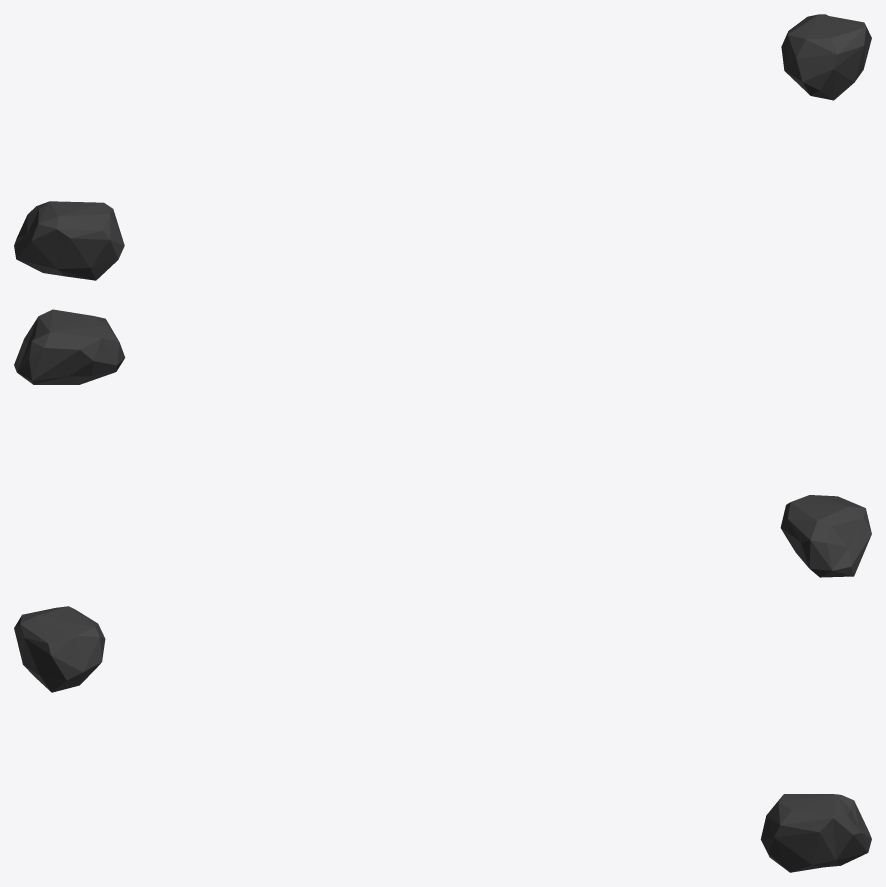
Rendered from Carpal_fourth.glb.
3 renders of one model, top to bottom at view 1: azimuth 30°, elevation 25°; view 2: azimuth 150°, elevation 25°; view 3: azimuth 330°, elevation 25°, orthographic.
Visible parts, largest first — view 1: Carpal_fourth; view 2: Carpal_fourth; view 3: Carpal_fourth.
Part boxes in pixels (x1,y1,x2,y2): Carpal_fourth: (14,14,871,280); Carpal_fourth: (14,309,871,577); Carpal_fourth: (14,606,871,872).
Size of the model in its own units: 0.00391 by 0.000279 by 0.000412.
1 material, 1 textured.
